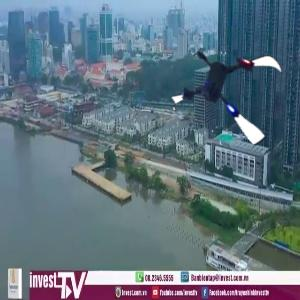drone: (174, 31, 293, 150)
